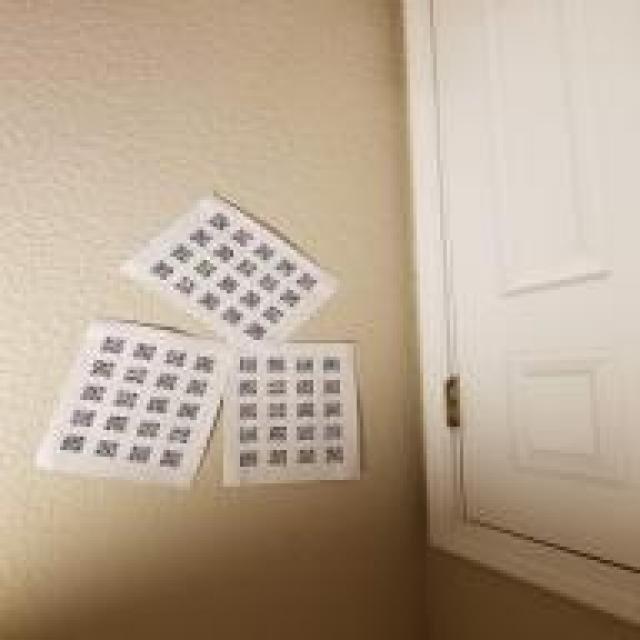QR_CODE: (58, 432, 90, 456), (145, 257, 177, 280), (165, 240, 197, 263), (67, 408, 100, 430), (124, 442, 154, 466), (85, 358, 117, 380), (258, 303, 287, 327), (90, 437, 120, 460), (134, 417, 164, 440), (294, 270, 324, 293), (78, 382, 110, 403), (158, 447, 187, 470), (248, 240, 277, 263), (120, 365, 150, 387), (96, 335, 126, 357), (170, 275, 200, 297), (202, 212, 233, 233), (275, 287, 303, 310), (185, 226, 217, 246), (100, 412, 130, 433), (322, 445, 350, 467), (182, 378, 210, 400), (235, 288, 263, 310), (232, 258, 260, 280), (272, 258, 300, 280), (164, 424, 194, 444), (114, 386, 144, 406), (190, 260, 220, 280), (233, 448, 260, 470), (213, 275, 240, 297), (175, 402, 203, 423), (152, 372, 180, 393), (228, 226, 257, 246), (238, 425, 264, 447), (218, 305, 244, 327), (240, 322, 267, 343), (192, 354, 220, 374), (162, 346, 190, 366), (132, 340, 160, 360), (197, 292, 223, 313), (263, 446, 290, 466), (143, 394, 170, 414), (295, 446, 320, 466), (265, 376, 290, 396), (255, 274, 280, 294), (322, 424, 346, 444), (293, 400, 317, 420), (263, 354, 287, 374), (212, 244, 236, 264), (235, 378, 260, 397), (267, 424, 290, 444), (293, 378, 317, 397), (295, 425, 320, 443), (265, 402, 290, 420), (235, 355, 260, 373), (320, 378, 343, 397), (293, 355, 317, 373), (322, 354, 343, 374), (320, 402, 343, 420), (237, 402, 260, 420)
